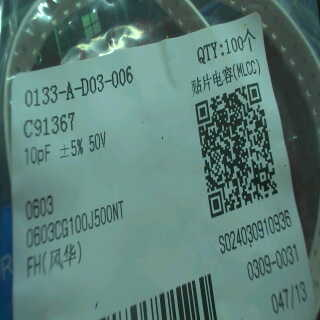10pF: (24, 140, 51, 169)
